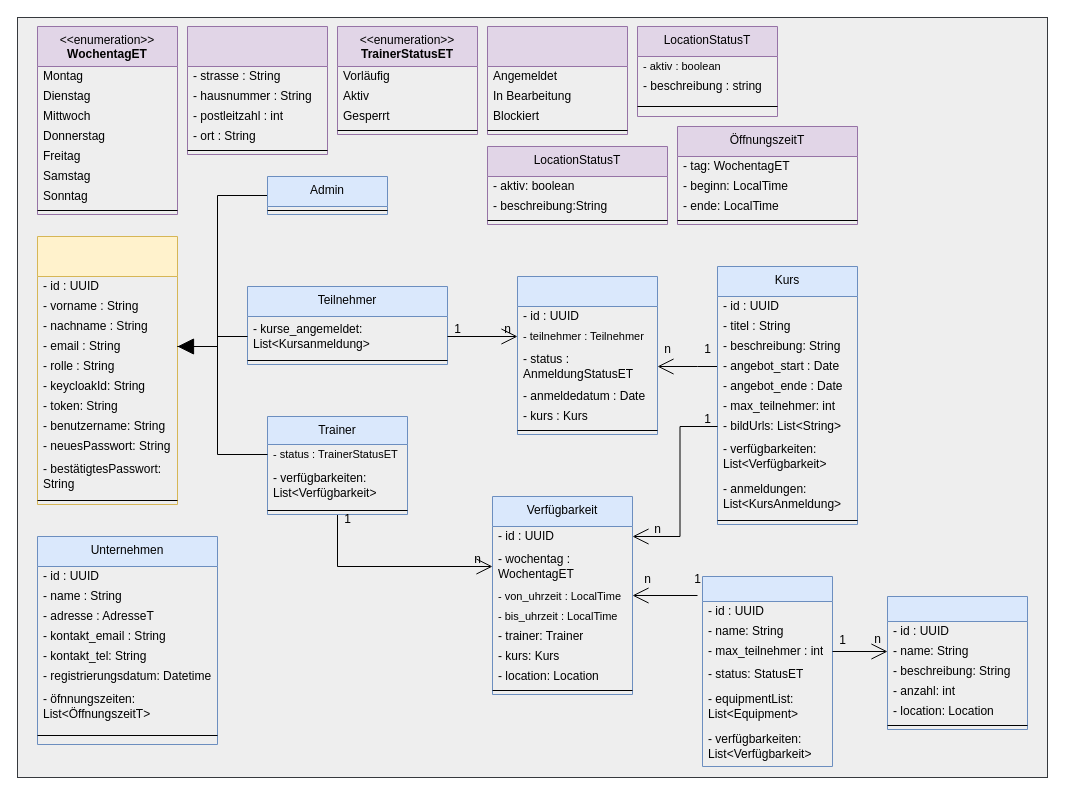
Some shapes in this 1065 by 795 pixel diagram are drawn without their labels. The shapes that lost their labels are listed below. From the top down, each one's box as (x1, y1, x2, y2) in pixels, then its label:
(186, 26, 328, 154): <<primitive>> AdresseT
(486, 26, 628, 134): <<enumeration>> AnmeldungStatusET
(36, 236, 178, 504): Benutzer {abstract}
(516, 276, 658, 434): KursAnmeldung
(702, 576, 832, 766): Location
(886, 596, 1028, 730): Equipment
